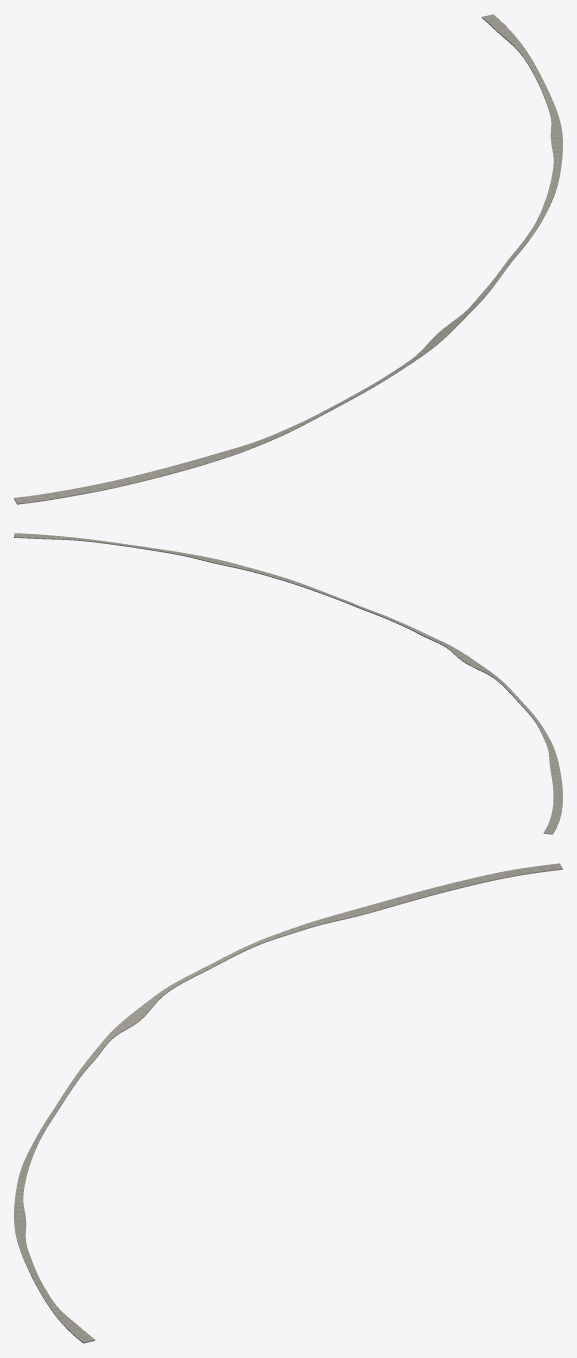
Rendered from sidewalk_02.gltf.
3 renders of one model, top to bottom at view 1: azimuth 90°, elevation 25°; view 2: azimuth 150°, elevation 25°; view 3: azimuth 270°, elevation 25°, orthographic. The views are drawn at different scales.
Parts seen in each view (by area): view 1: sidewalk_02.surface, sidewalk_02.sides; view 2: sidewalk_02.surface, sidewalk_02.sides; view 3: sidewalk_02.surface, sidewalk_02.sides.
Part boxes in pixels (<box>): sidewalk_02.surface: <box>14,14,562,503</box>; sidewalk_02.sides: <box>14,17,562,504</box>; sidewalk_02.surface: <box>14,533,562,833</box>; sidewalk_02.sides: <box>14,533,562,834</box>; sidewalk_02.surface: <box>14,863,562,1342</box>; sidewalk_02.sides: <box>14,868,562,1343</box>.
Size of the model in its own units: 154 by 1.66 by 74.02.
Materials: 1 (1 with a texture image).
